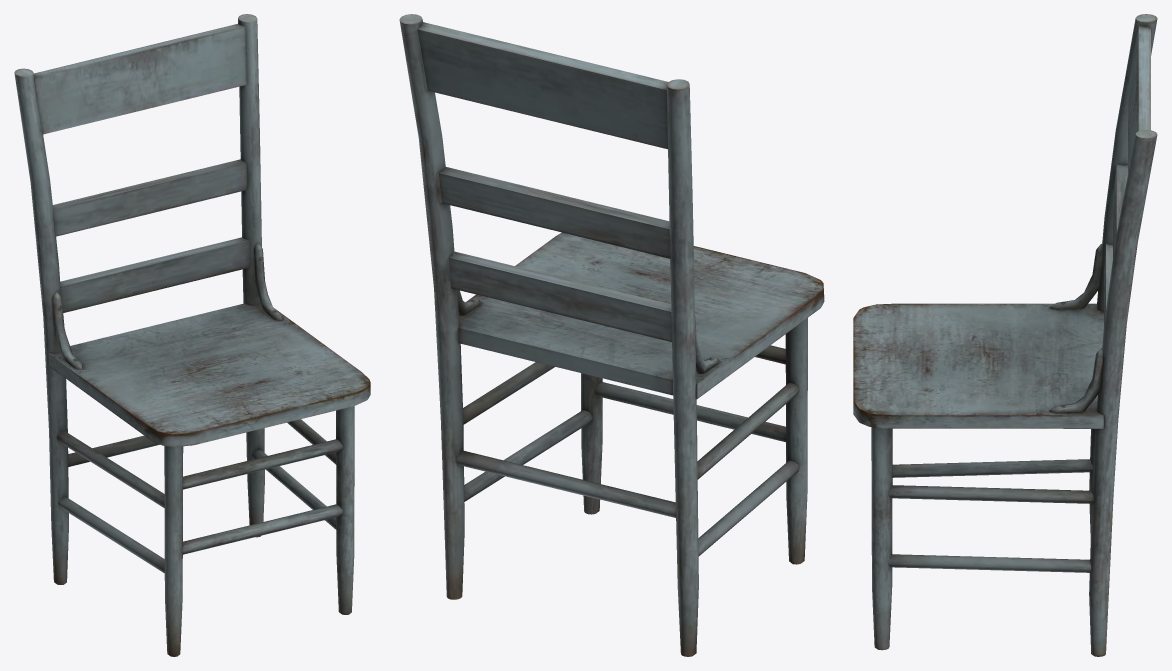
Rendered from painted_wooden_chair_02.glb.
3 views of the same model, side by side, from view 1: azimuth 30°, elevation 25°; view 2: azimuth 150°, elevation 25°; view 3: azimuth 270°, elevation 25° (orthographic). The views are drawn at different scales.
Parts seen in each view (by area): view 1: painted_wooden_chair_02; view 2: painted_wooden_chair_02; view 3: painted_wooden_chair_02.
Part boxes in pixels (x1,y1,x2,y2): painted_wooden_chair_02: (14,14,370,656); painted_wooden_chair_02: (399,14,824,656); painted_wooden_chair_02: (853,14,1157,656).
Bounding box in the file's own units: 0.6394 × 1.26 × 0.6605.
Materials: 1 (1 with a texture image).
